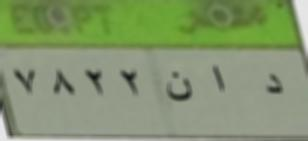2: (83, 65, 108, 102), (120, 67, 142, 99)
7: (11, 65, 38, 100)
8: (51, 65, 76, 101)
alif: (207, 58, 228, 98)
daal: (260, 66, 285, 99)
noon: (165, 67, 193, 107)
